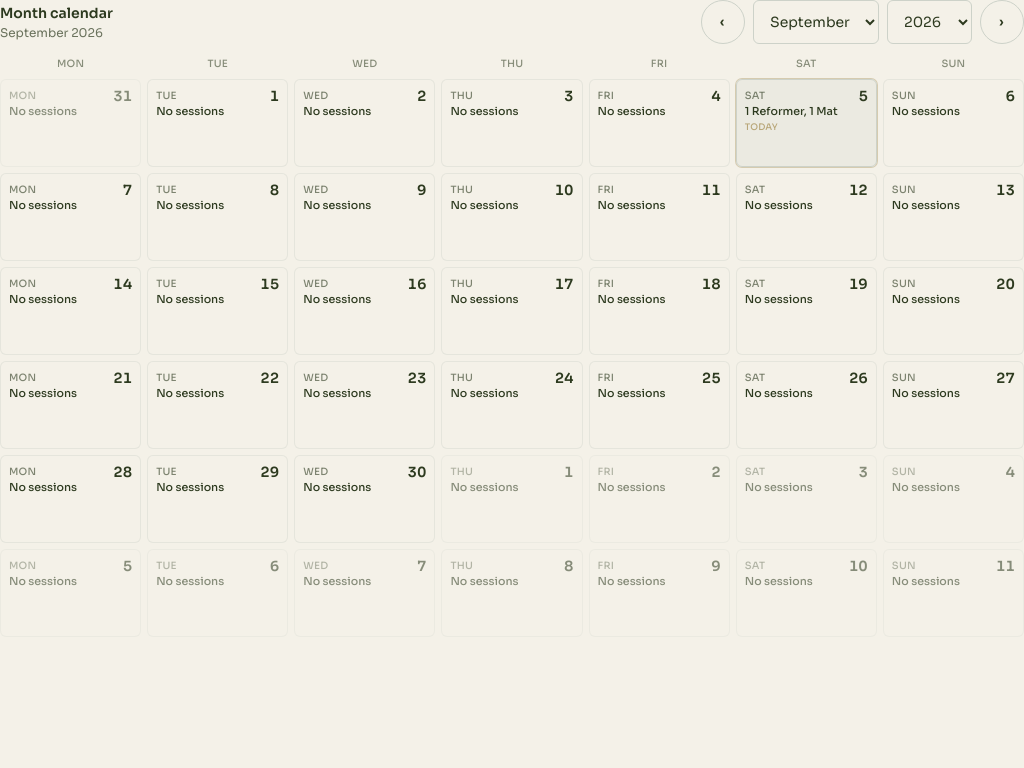
Test: MonthCalendarSection › opens read-only client details from a booking box
The image size is (1024, 768).
Click the button with aria-label "5 September, 1 Reformer, 1 Mat".
click(806, 123)  # box [736,79,877,167]
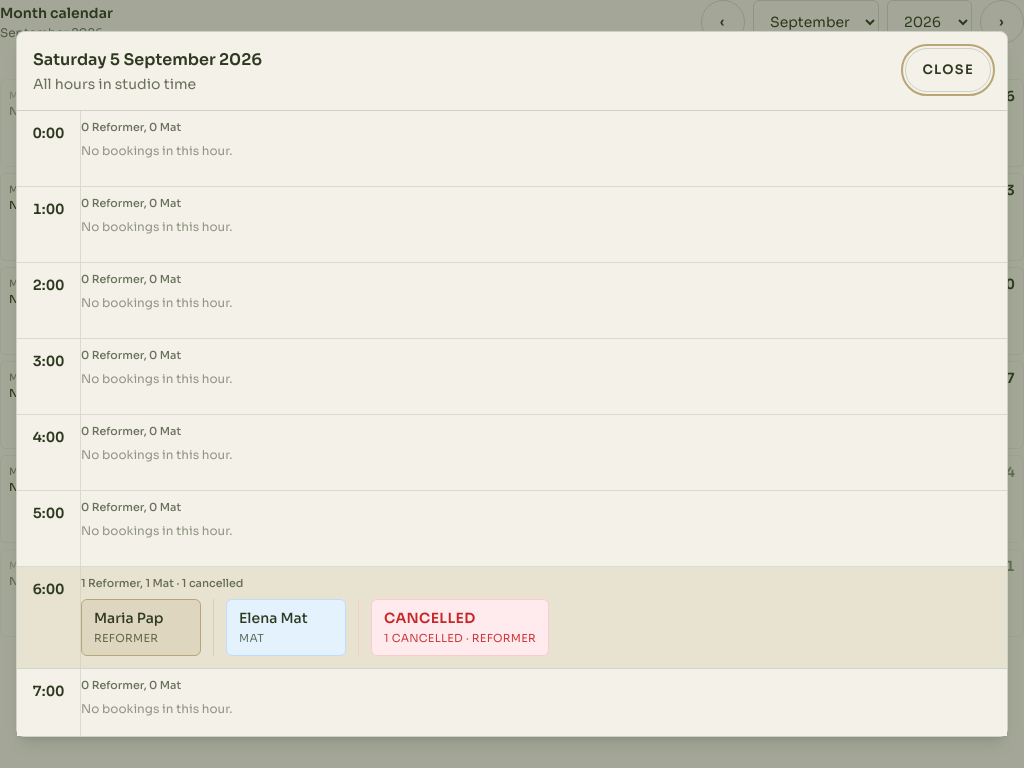
Click the button "Maria Pap Reformer".
click(141, 627)  # box [81,599,201,656]
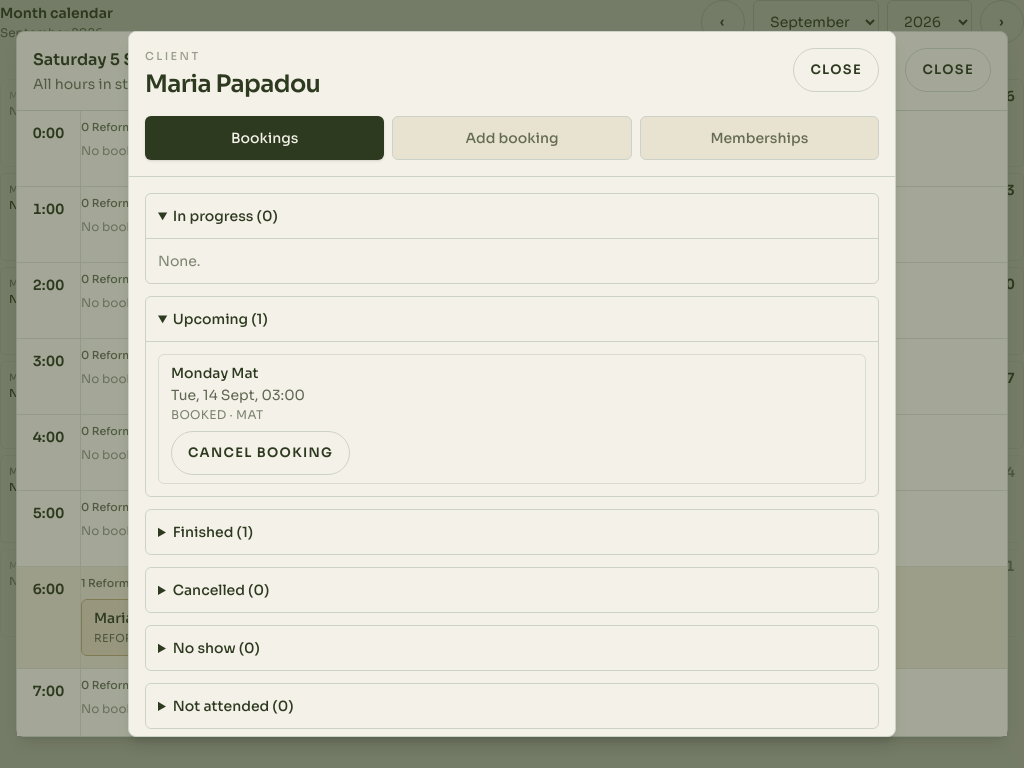
Result: the heading "Maria Papadou" is shown at [145,68,320,100]
Click the tab "Memberships".
click(759, 138)  # box [640,116,879,160]
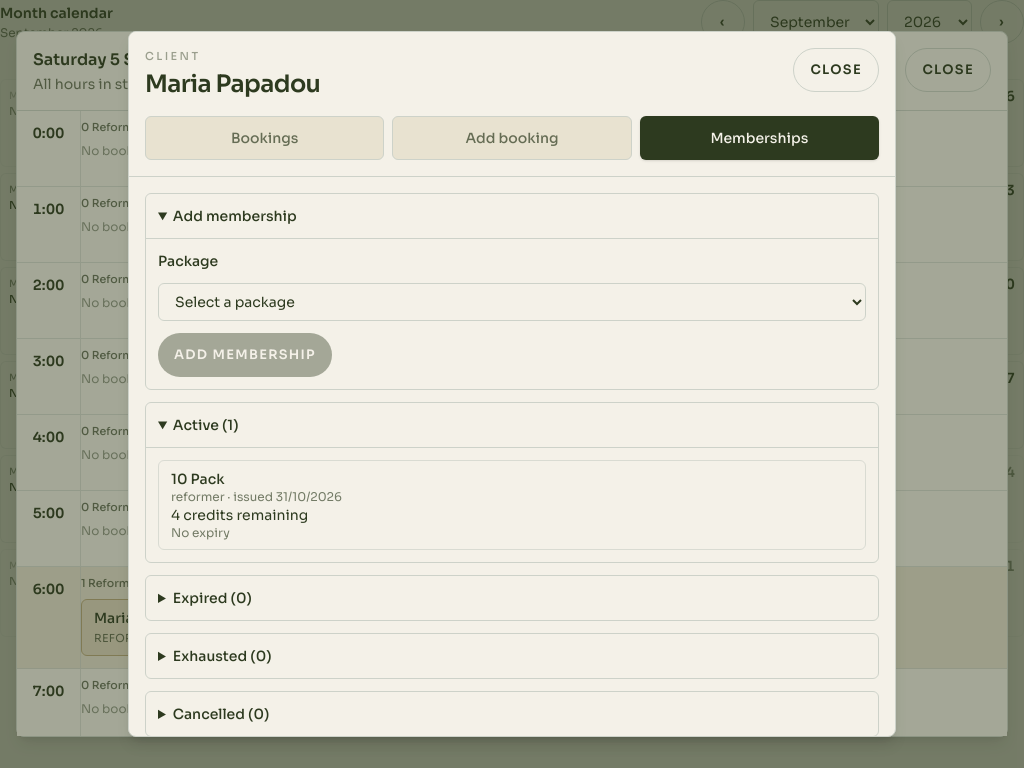
Result: the tab "Add booking" is shown at [392,116,632,160]
Result: the text "10 Pack" is shown at [171,470,224,488]
Result: the text "4 credits remaining" is shown at [171,506,308,524]
